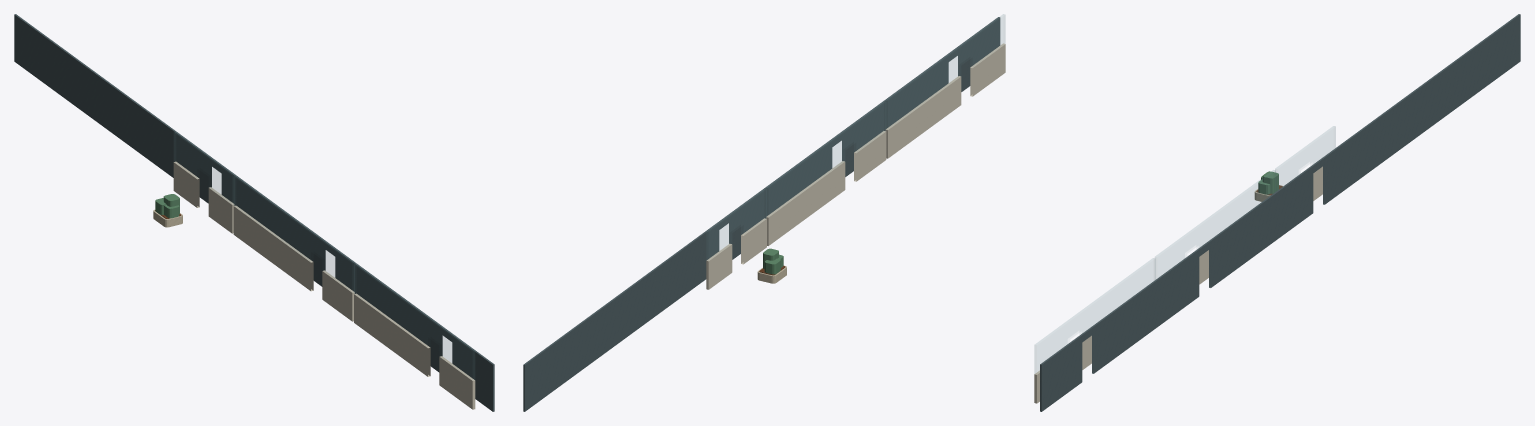
The model's file is D04_PORT_CENTRAL_COURT_WORK_PATCH_r001.glb.
3 renders of one model, left to right at view 1: azimuth 30°, elevation 25°; view 2: azimuth 150°, elevation 25°; view 3: azimuth 330°, elevation 25°, orthographic.
Visible parts, largest first — view 1: PCS_D04Boundary1, PCK_D04HC2_east_GlassUpper, PCK_D04HC_east_PrivacyScreen, PCK_D04HC2_east_PrivacyScreen, PCK_D04HC_east_GlassUpper, PCK_D04HC3_east_GlassUpper, PCK_D04HC3_east_PrivacyScreen; view 2: PCS_D04Boundary1, PCK_D04HC_east_PrivacyScreen, PCK_D04HC2_east_PrivacyScreen, PCK_D04HC2_east_GlassUpper, PCK_D04HC_east_GlassUpper, PCK_D04HC3_east_GlassUpper, PCK_D04HC3_east_PrivacyScreen; view 3: PCS_D04Boundary1, PCK_D04HC_east_GlassUpper, PCK_D04HC2_east_GlassUpper, PCK_D04HC3_east_GlassUpper, PCK_D04HC_east_PrivacyScreen.
Part boxes in pixels (<box>): PCS_D04Boundary1: <box>14,14,494,411</box>; PCK_D04HC2_east_GlassUpper: <box>234,176,354,292</box>; PCK_D04HC_east_PrivacyScreen: <box>354,293,475,409</box>; PCK_D04HC2_east_PrivacyScreen: <box>233,205,354,321</box>; PCK_D04HC_east_GlassUpper: <box>354,264,474,379</box>; PCK_D04HC3_east_GlassUpper: <box>174,132,234,203</box>; PCK_D04HC3_east_PrivacyScreen: <box>173,161,234,233</box>; PCS_D04Boundary1: <box>523,17,1000,411</box>; PCK_D04HC_east_PrivacyScreen: <box>885,43,1005,158</box>; PCK_D04HC2_east_PrivacyScreen: <box>766,131,886,245</box>; PCK_D04HC2_east_GlassUpper: <box>766,102,885,215</box>; PCK_D04HC_east_GlassUpper: <box>886,14,1005,128</box>; PCK_D04HC3_east_GlassUpper: <box>706,189,766,260</box>; PCK_D04HC3_east_PrivacyScreen: <box>706,218,766,289</box>; PCS_D04Boundary1: <box>1040,14,1520,411</box>; PCK_D04HC_east_GlassUpper: <box>1034,258,1155,373</box>; PCK_D04HC2_east_GlassUpper: <box>1155,170,1275,279</box>; PCK_D04HC3_east_GlassUpper: <box>1275,126,1335,191</box>; PCK_D04HC_east_PrivacyScreen: <box>1034,335,1091,403</box>.
Size of the model in its own units: 4.16 by 3.96 by 58.9.
6 materials, 4 textured.
